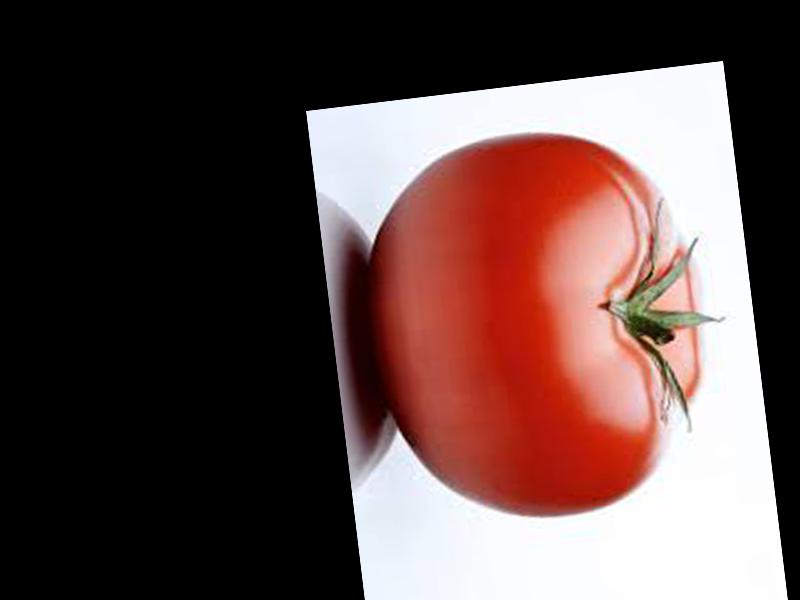Tomato: (354, 114, 722, 533)
